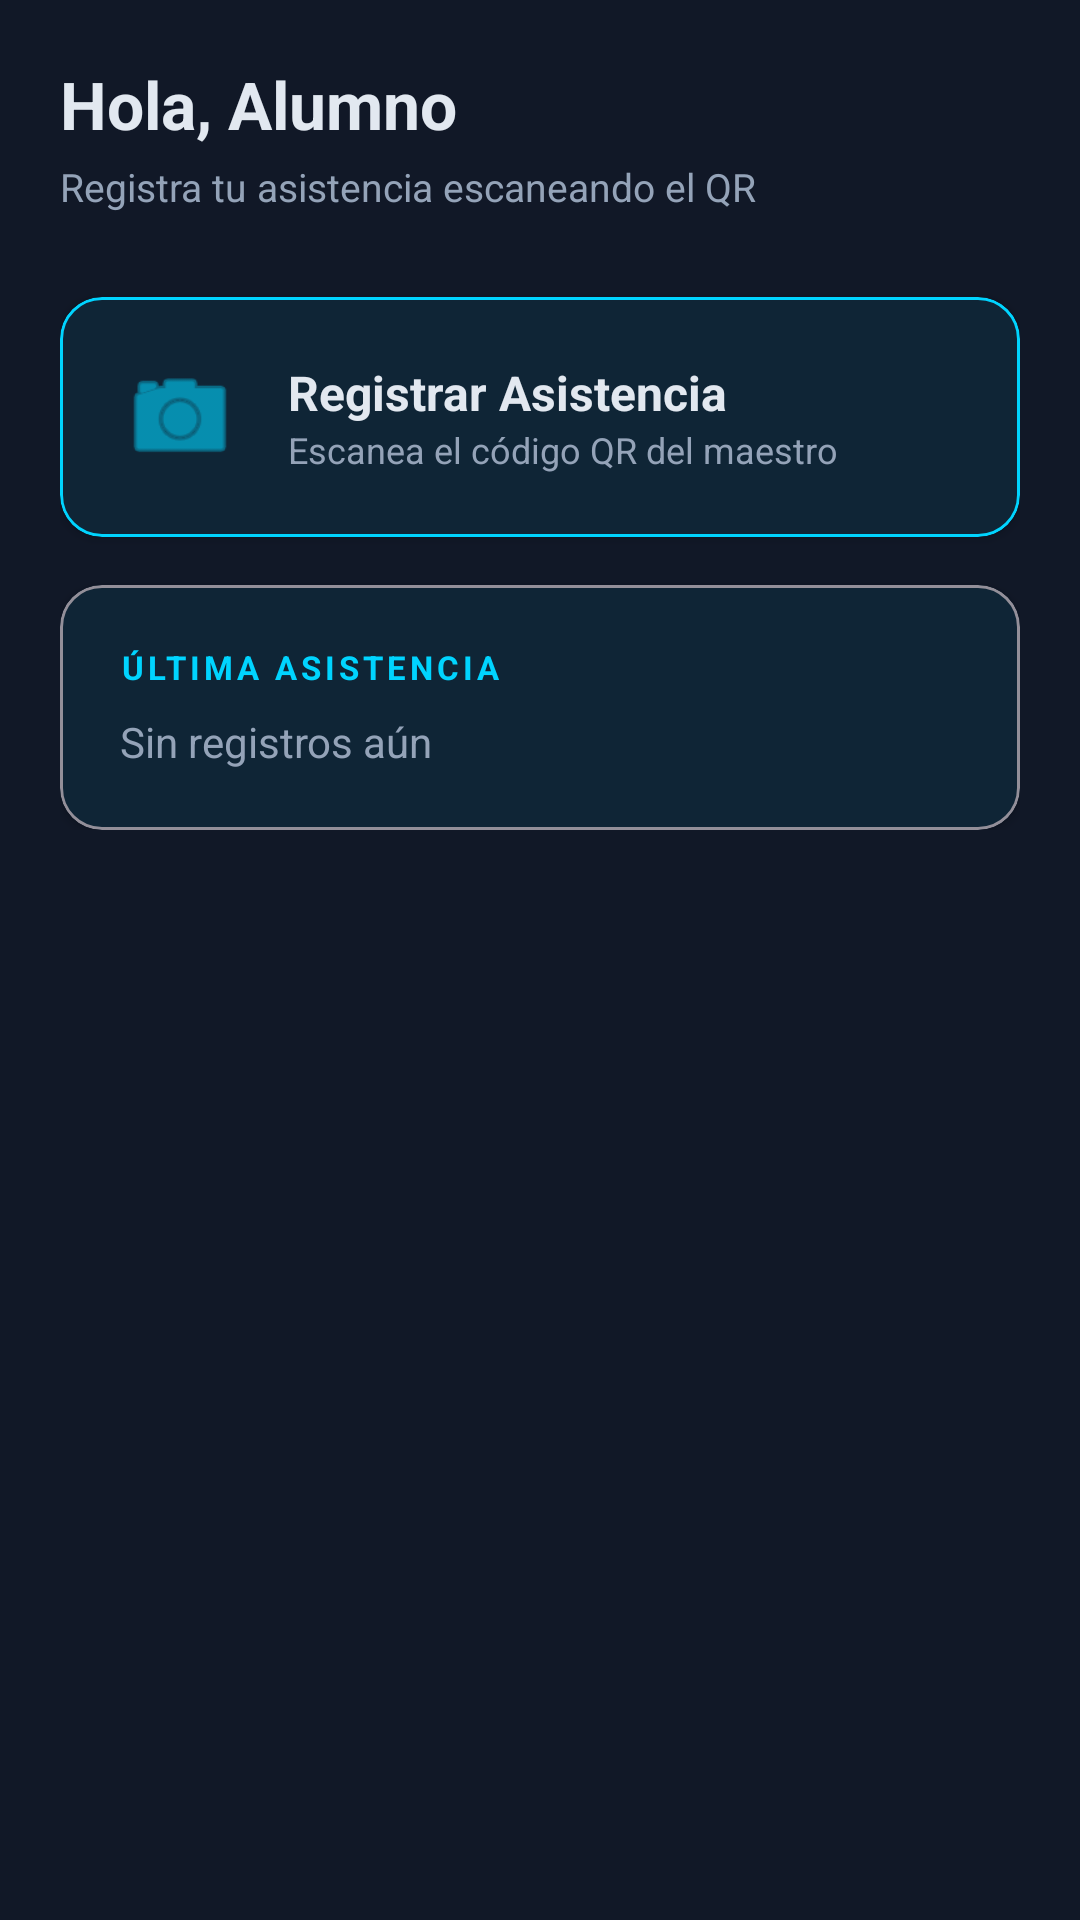

Icons on this 1080 x 1920 Android screen, each with its box as rect(x1, y1, x2, y2):
camera: rect(134, 378, 226, 452)
